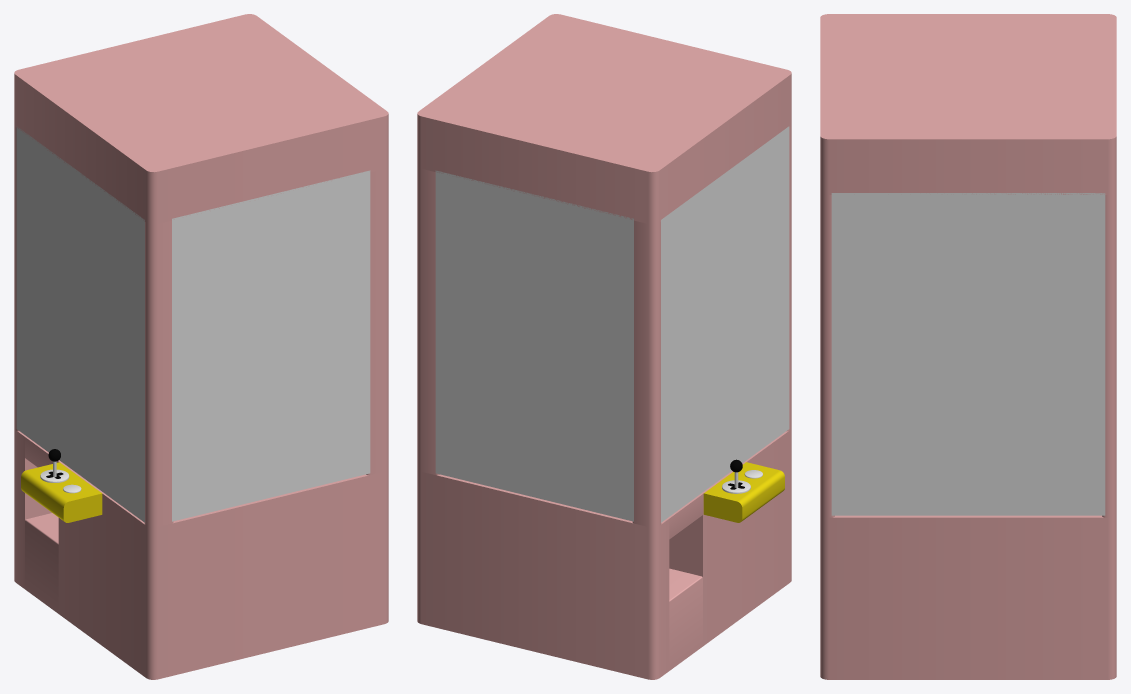
Rendered from claw_machine.fbx.
3 renders of one model, left to right at view 1: azimuth 30°, elevation 25°; view 2: azimuth 150°, elevation 25°; view 3: azimuth 270°, elevation 25°, orthographic. The views are drawn at different scales.
Parts seen in each view (by area): view 1: SM_Mirror, SM_Body_Top, SM_Body, SM_ControllerBase; view 2: SM_Mirror, SM_Body_Top, SM_Body, SM_ControllerBase; view 3: SM_Mirror, SM_Body_Top, SM_Body.
Part boxes in pixels (<box>): SM_Mirror: <box>16,126,370,522</box>; SM_Body_Top: <box>14,14,388,527</box>; SM_Body: <box>14,429,388,679</box>; SM_ControllerBase: <box>21,462,102,522</box>; SM_Mirror: <box>435,126,789,522</box>; SM_Body_Top: <box>417,14,791,527</box>; SM_Body: <box>417,429,791,679</box>; SM_ControllerBase: <box>703,462,784,522</box>; SM_Mirror: <box>831,193,1105,515</box>; SM_Body_Top: <box>820,14,1116,517</box>; SM_Body: <box>820,514,1116,679</box>.
Bounding box in the file's own units: 4.78 × 8.29 × 4.12.
